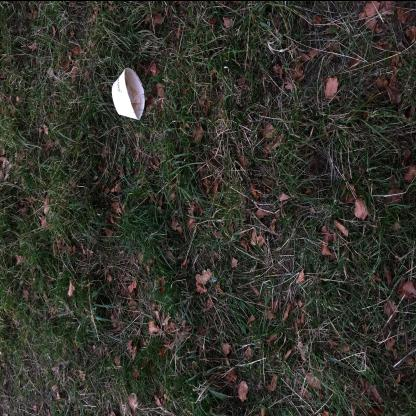karton: (112, 66, 146, 120)
